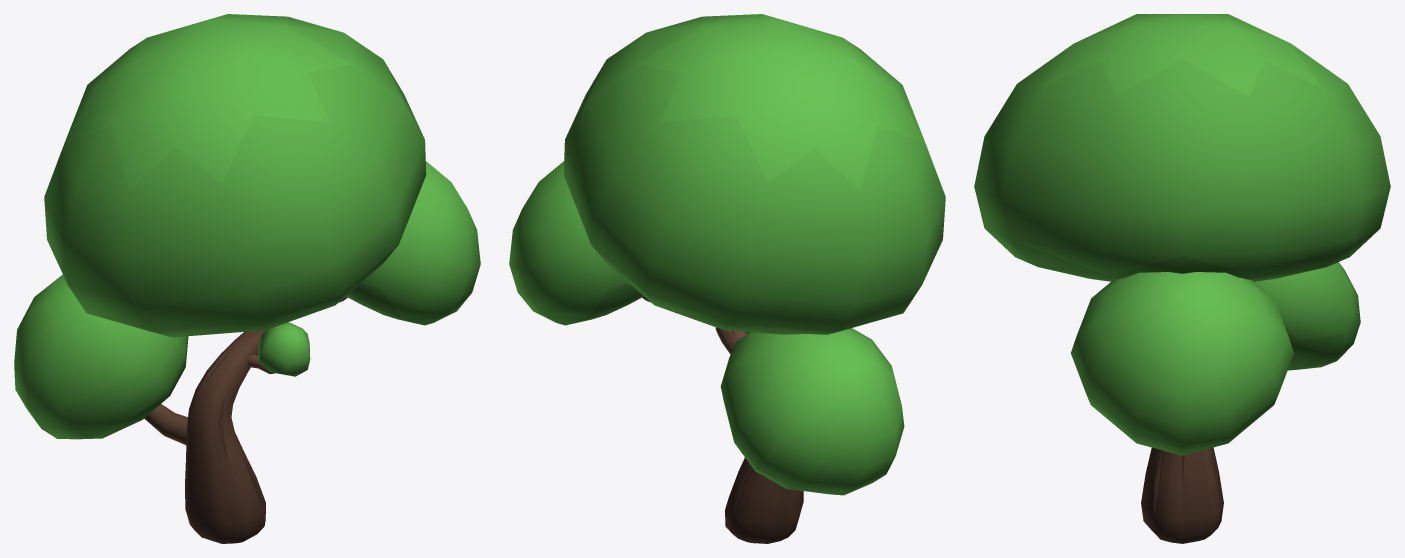
The model's file is tree_broadleaf_3.glb.
3 renders of one model, left to right at view 1: azimuth 30°, elevation 25°; view 2: azimuth 150°, elevation 25°; view 3: azimuth 270°, elevation 25°, orthographic. The views are drawn at different scales.
Parts seen in each view (by area): view 1: tree_broadleaf_3; view 2: tree_broadleaf_3; view 3: tree_broadleaf_3.
Boxes of the visible parts, x1,y1,x2,y2 form: tree_broadleaf_3: (14, 14, 480, 543); tree_broadleaf_3: (509, 14, 945, 543); tree_broadleaf_3: (974, 14, 1390, 543).
Size of the model in its own units: 9.42 by 11 by 8.1.
